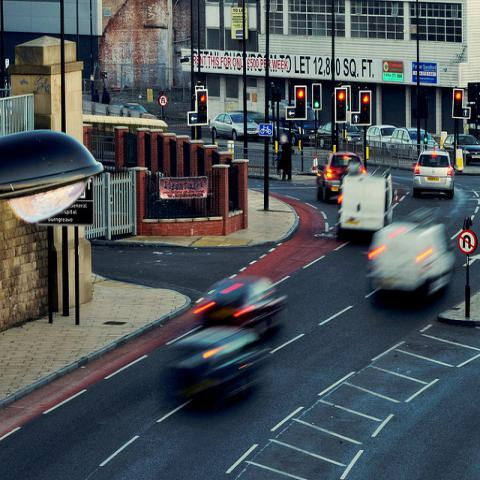car: (363, 213, 460, 309), (168, 326, 262, 414), (192, 272, 290, 342), (316, 150, 365, 202), (413, 150, 456, 197), (209, 111, 259, 139), (317, 122, 364, 148), (390, 128, 438, 146), (442, 134, 480, 152), (366, 125, 397, 141), (112, 100, 149, 113), (463, 150, 479, 165)
truck: (367, 217, 457, 313), (337, 163, 392, 244)
